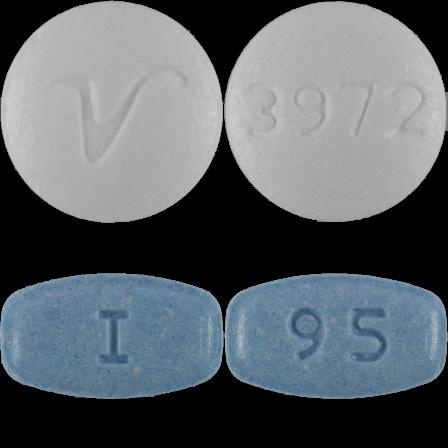61786-945: (0, 0, 224, 224)
